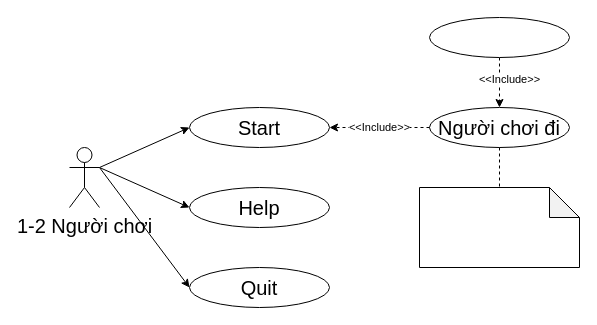
The diagram is 597 pixels wide and 325 high, and some of its shapes have lost their labels. Each missing label, with the centre of its shape:
"X đi trước rồi lần lượt X-O" goes at (x=499, y=227).
"Xem kết quả" goes at (x=499, y=37).
